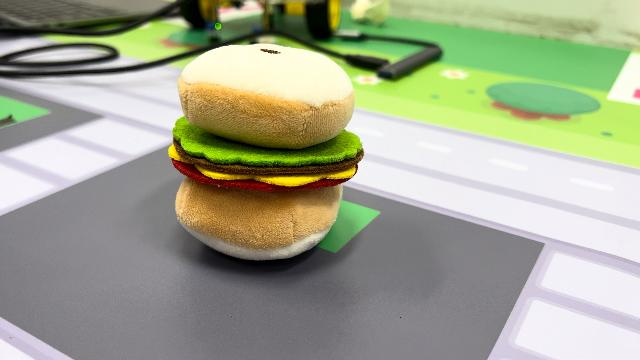sandwich: (167, 40, 366, 262)
